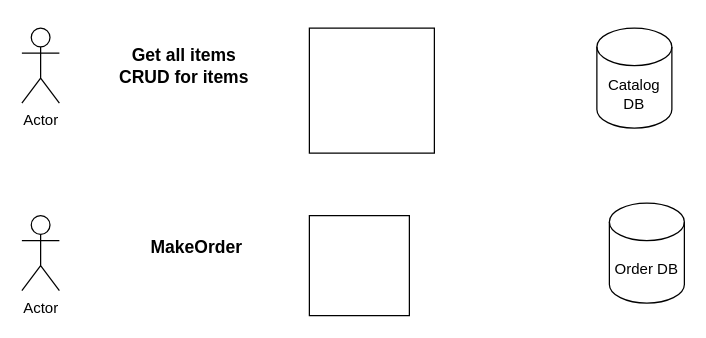
Image size: 706x338. Some labels were removed from this diagram. The centre of each missing label's shape, as x and y in pixels:
Catalog.API: [371,90]
Order.API: [358,265]
